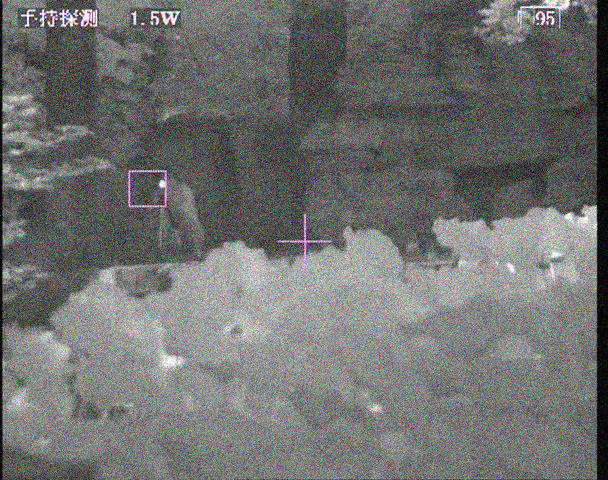my: (156, 178, 168, 190)
